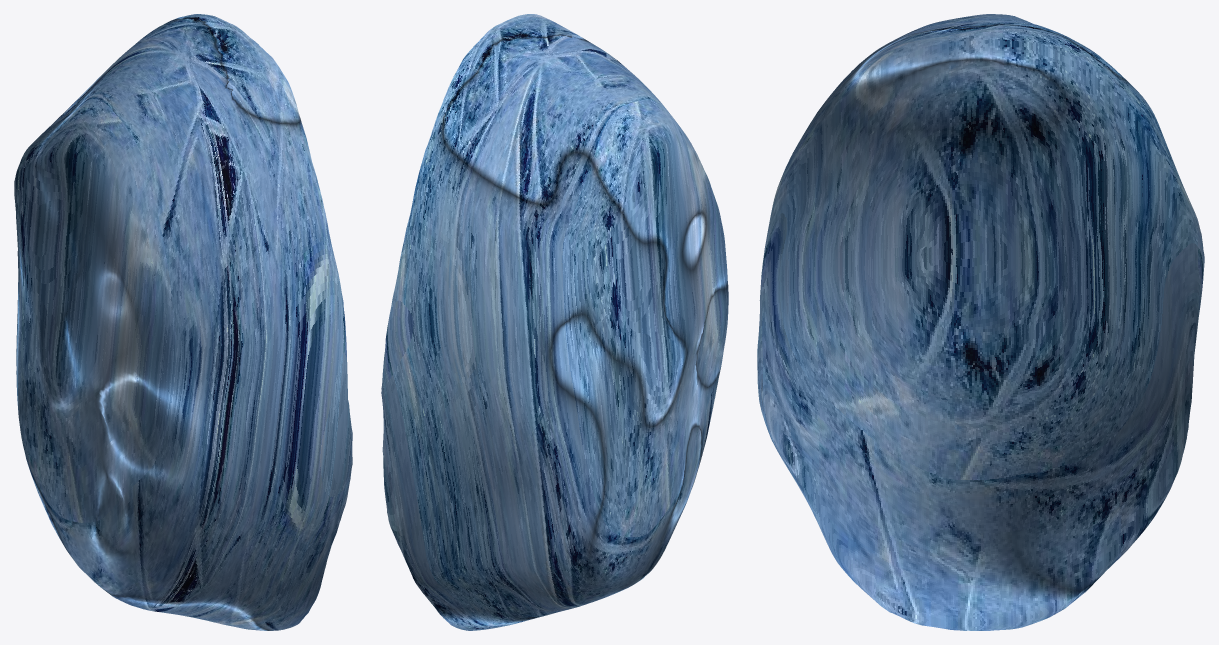
3 views of the same model, side by side, from view 1: azimuth 30°, elevation 25°; view 2: azimuth 150°, elevation 25°; view 3: azimuth 270°, elevation 25° (orthographic).
Parts seen in each view (by area): view 1: Renderer Node; view 2: Renderer Node; view 3: Renderer Node.
Boxes of the visible parts, x1,y1,x2,y2 form: Renderer Node: (14,14,352,630); Renderer Node: (381,14,728,630); Renderer Node: (757,14,1204,630).
Size of the model in its own units: 0.1446 by 0.415 by 0.2813.
1 material, 1 textured.
